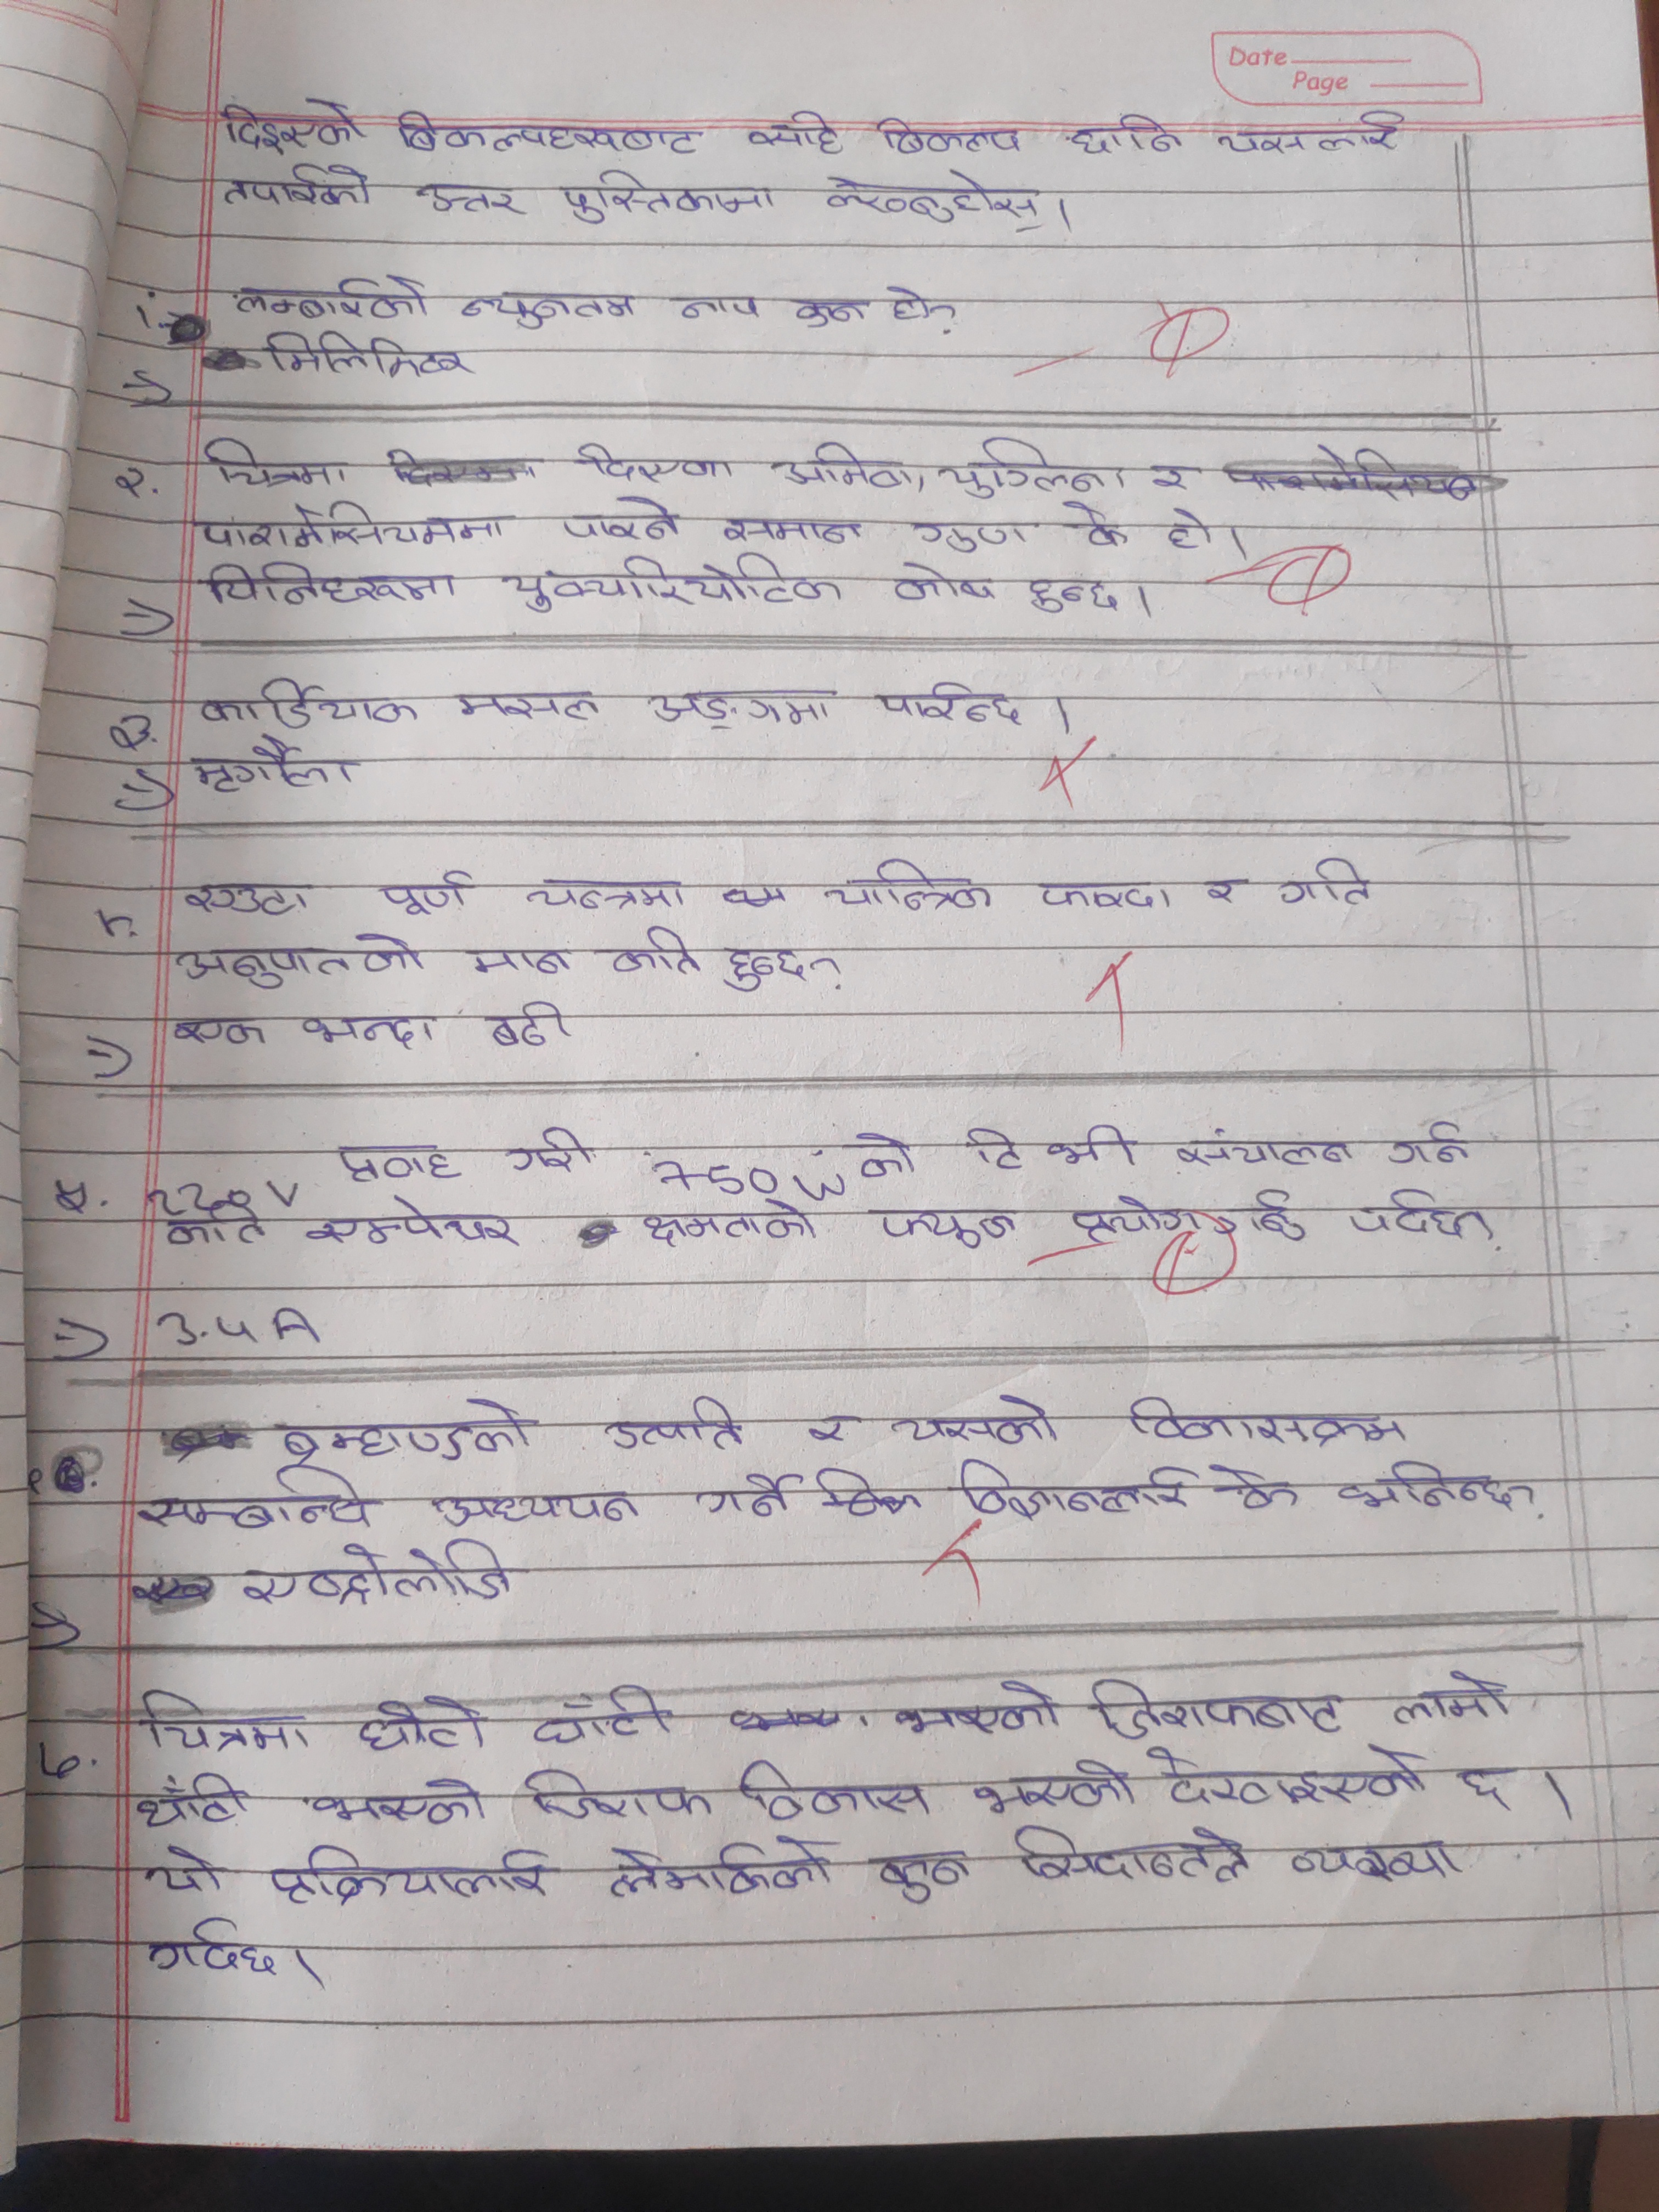text: (500, 554, 854, 617), (268, 1388, 535, 1468), (235, 1538, 519, 1609), (263, 1838, 559, 1905), (1006, 1817, 1260, 1893), (1080, 1672, 1347, 1743), (1124, 1388, 1419, 1449), (1143, 1747, 1434, 1808), (596, 1829, 842, 1898), (392, 106, 706, 160), (193, 502, 525, 552), (127, 1465, 378, 1531), (821, 164, 1049, 235), (953, 1454, 1197, 1521), (176, 932, 425, 988), (131, 1688, 319, 1761), (735, 1757, 932, 1827), (559, 165, 781, 226), (197, 676, 418, 737), (941, 434, 1136, 502), (254, 324, 476, 383), (305, 1197, 528, 1252), (202, 563, 462, 610), (230, 268, 437, 326), (962, 1116, 1150, 1177), (885, 1676, 1066, 1738), (519, 1763, 716, 1820), (821, 857, 999, 920), (1333, 1454, 1514, 1515), (185, 737, 364, 798), (882, 1392, 1068, 1449), (640, 685, 843, 737), (528, 1684, 683, 1750), (303, 1778, 497, 1831), (599, 1393, 751, 1460), (132, 1916, 282, 1982), (1283, 1832, 1462, 1886), (765, 434, 922, 495), (1215, 110, 1410, 158), (1173, 1122, 1354, 1174), (455, 282, 645, 331), (972, 1757, 1138, 1813), (1340, 1184, 1495, 1244), (636, 1202, 830, 1249), (870, 674, 1026, 732), (218, 94, 369, 153), (199, 434, 354, 491), (518, 871, 695, 916), (1068, 1191, 1209, 1247), (1387, 1669, 1514, 1730), (220, 162, 371, 212), (868, 113, 1030, 160), (572, 441, 742, 484), (354, 1698, 491, 1752), (444, 1491, 638, 1529), (301, 1001, 443, 1054), (131, 1773, 251, 1834), (160, 1197, 274, 1258), (690, 1465, 803, 1526), (335, 1141, 462, 1195), (1068, 106, 1187, 164), (870, 1844, 972, 1909), (868, 1209, 1019, 1252), (559, 493, 685, 543), (716, 510, 868, 552), (1208, 1456, 1310, 1515), (498, 1122, 598, 1183), (1039, 874, 1176, 918), (1279, 853, 1377, 914), (1211, 1188, 1310, 1247), (598, 923, 702, 979), (884, 563, 1002, 611), (174, 880, 312, 921), (451, 686, 603, 723), (376, 867, 477, 921), (716, 944, 812, 1000), (462, 939, 584, 982), (416, 176, 532, 221), (171, 1005, 272, 1055), (739, 105, 843, 153), (908, 516, 1039, 554), (481, 1000, 575, 1052), (1382, 1120, 1476, 1172), (784, 284, 880, 334), (1019, 568, 1121, 615), (141, 1844, 232, 1897), (1060, 493, 1134, 554), (843, 1125, 920, 1184), (669, 291, 765, 329), (1450, 1763, 1525, 1811), (1161, 502, 1215, 556), (882, 282, 934, 336), (805, 1404, 856, 1456), (720, 878, 786, 914), (1148, 449, 1197, 496), (1209, 867, 1248, 907)
